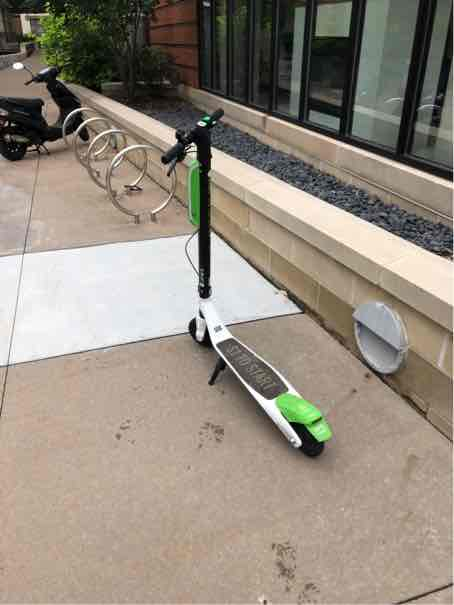scooter: (150, 93, 342, 464)
